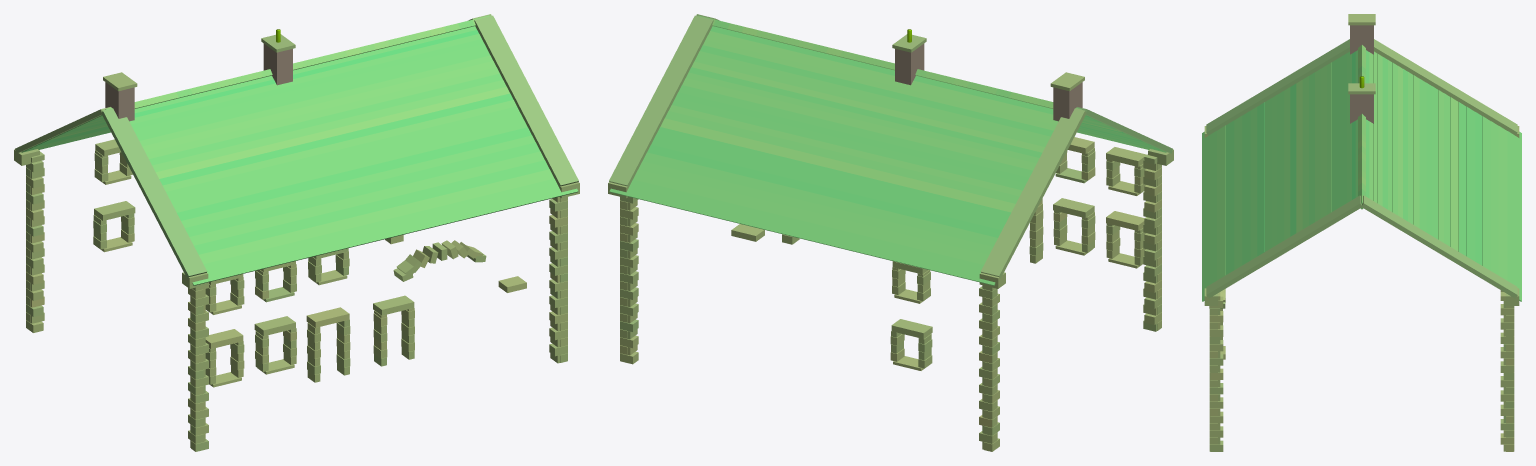
Rendered from SM_Bld_148_Stone.glb.
The picture shows the model from 3 angles, left to right: view 1: azimuth 30°, elevation 25°; view 2: azimuth 150°, elevation 25°; view 3: azimuth 270°, elevation 25°; orthographic projection. The views are drawn at different scales.
Parts seen in each view (by area): view 1: SM_Bld_148_Stone; view 2: SM_Bld_148_Stone; view 3: SM_Bld_148_Stone.
Boxes of the visible parts, left/top/right/bottom form: SM_Bld_148_Stone: left=14, top=14, right=579, bottom=451; SM_Bld_148_Stone: left=608, top=14, right=1173, bottom=451; SM_Bld_148_Stone: left=1202, top=14, right=1521, bottom=451.
Bounding box in the file's own units: 15.24 × 11.9 × 12.08.
